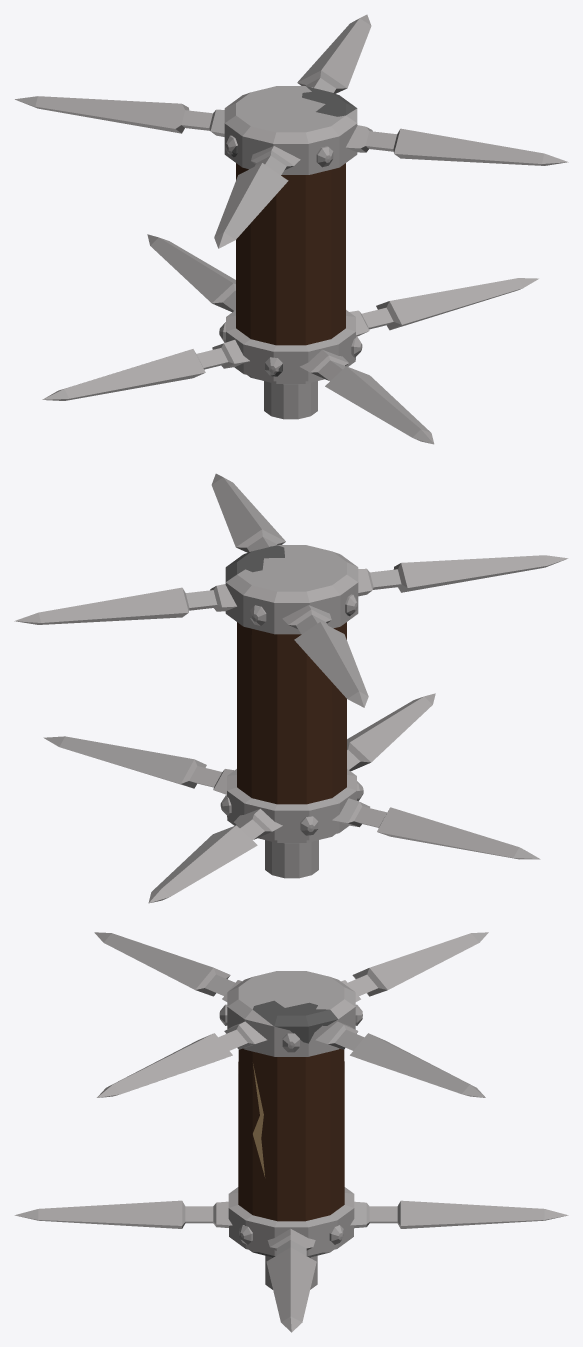
The model's file is SMLSpikeSpinning.fbx.
The picture shows the model from 3 angles, top to bottom: view 1: azimuth 30°, elevation 25°; view 2: azimuth 150°, elevation 25°; view 3: azimuth 270°, elevation 25°; orthographic projection. The views are drawn at different scales.
Visible parts, largest first — view 1: SMLSpikeSpinning; view 2: SMLSpikeSpinning; view 3: SMLSpikeSpinning.
Boxes of the visible parts, x1=… form: SMLSpikeSpinning: x1=15, y1=14, x2=568, y2=444; SMLSpikeSpinning: x1=14, y1=473, x2=568, y2=903; SMLSpikeSpinning: x1=14, y1=932, x2=568, y2=1332.
Bounding box in the file's own units: 207 × 119 × 207.
